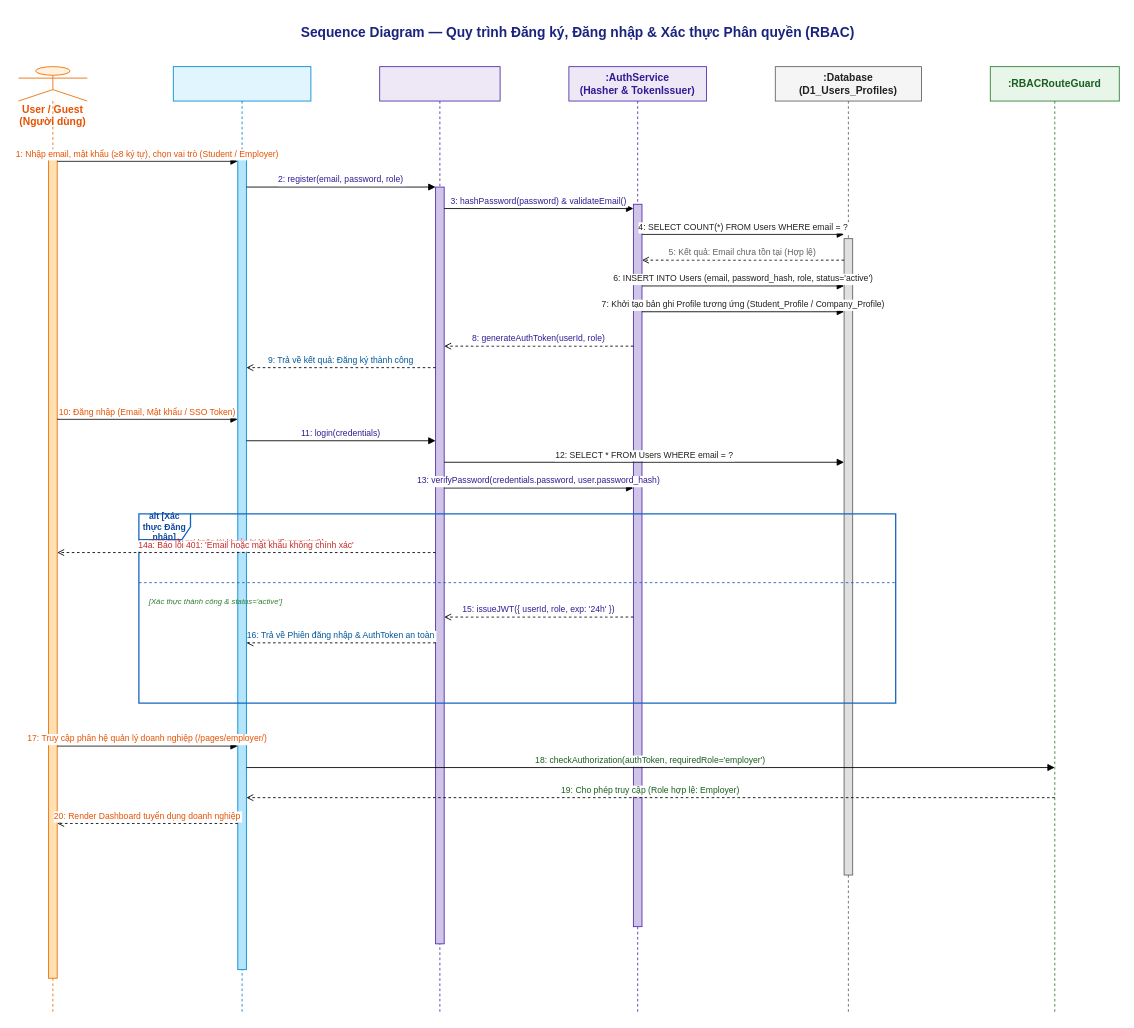
Image size: 1134x1028. Some labels were removed from this diagram. Here are the shapes that lost their labels. From the top down, the box of each, then its label:
(172, 66, 311, 1013): :AuthPortalUI (Trang Đăng ký / Đăng nhập)
(379, 66, 500, 1013): :AuthController
